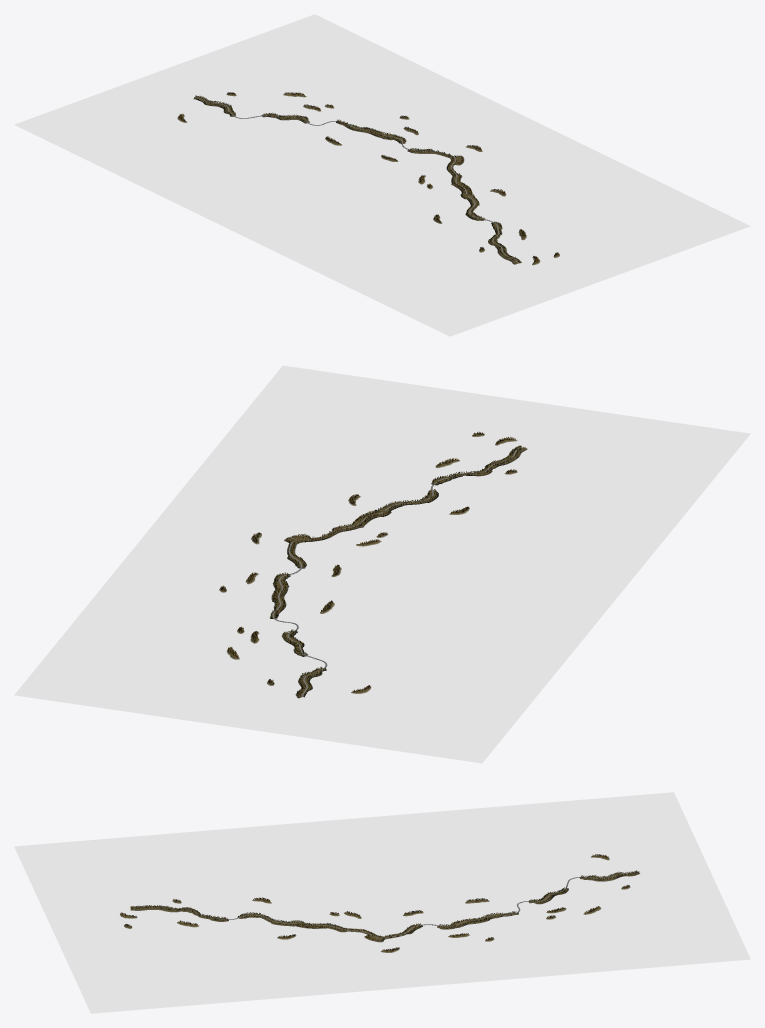
The model's file is finland_stage5_visual.glb.
3 views of the same model, one above another, from view 1: azimuth 30°, elevation 25°; view 2: azimuth 150°, elevation 25°; view 3: azimuth 270°, elevation 25° (orthographic). The views are drawn at different scales.
Parts seen in each view (by area): view 1: Props_And_Markers, Track_Road_And_Terrain, Foliage_And_Vegetation; view 2: Props_And_Markers, Track_Road_And_Terrain, Foliage_And_Vegetation; view 3: Props_And_Markers, Track_Road_And_Terrain, Foliage_And_Vegetation.
Boxes of the visible parts, left/top/right/bottom form: Props_And_Markers: left=14, top=14, right=750, bottom=336; Track_Road_And_Terrain: left=179, top=93, right=558, bottom=264; Foliage_And_Vegetation: left=178, top=92, right=558, bottom=263; Props_And_Markers: left=14, top=365, right=750, bottom=763; Track_Road_And_Terrain: left=221, top=434, right=527, bottom=698; Foliage_And_Vegetation: left=220, top=432, right=525, bottom=696; Props_And_Markers: left=14, top=792, right=750, bottom=1013; Track_Road_And_Terrain: left=121, top=855, right=639, bottom=951; Foliage_And_Vegetation: left=120, top=854, right=639, bottom=951.
Size of the model in its own units: 4617 by 52.1 by 6490.
45 materials, 45 textured.
